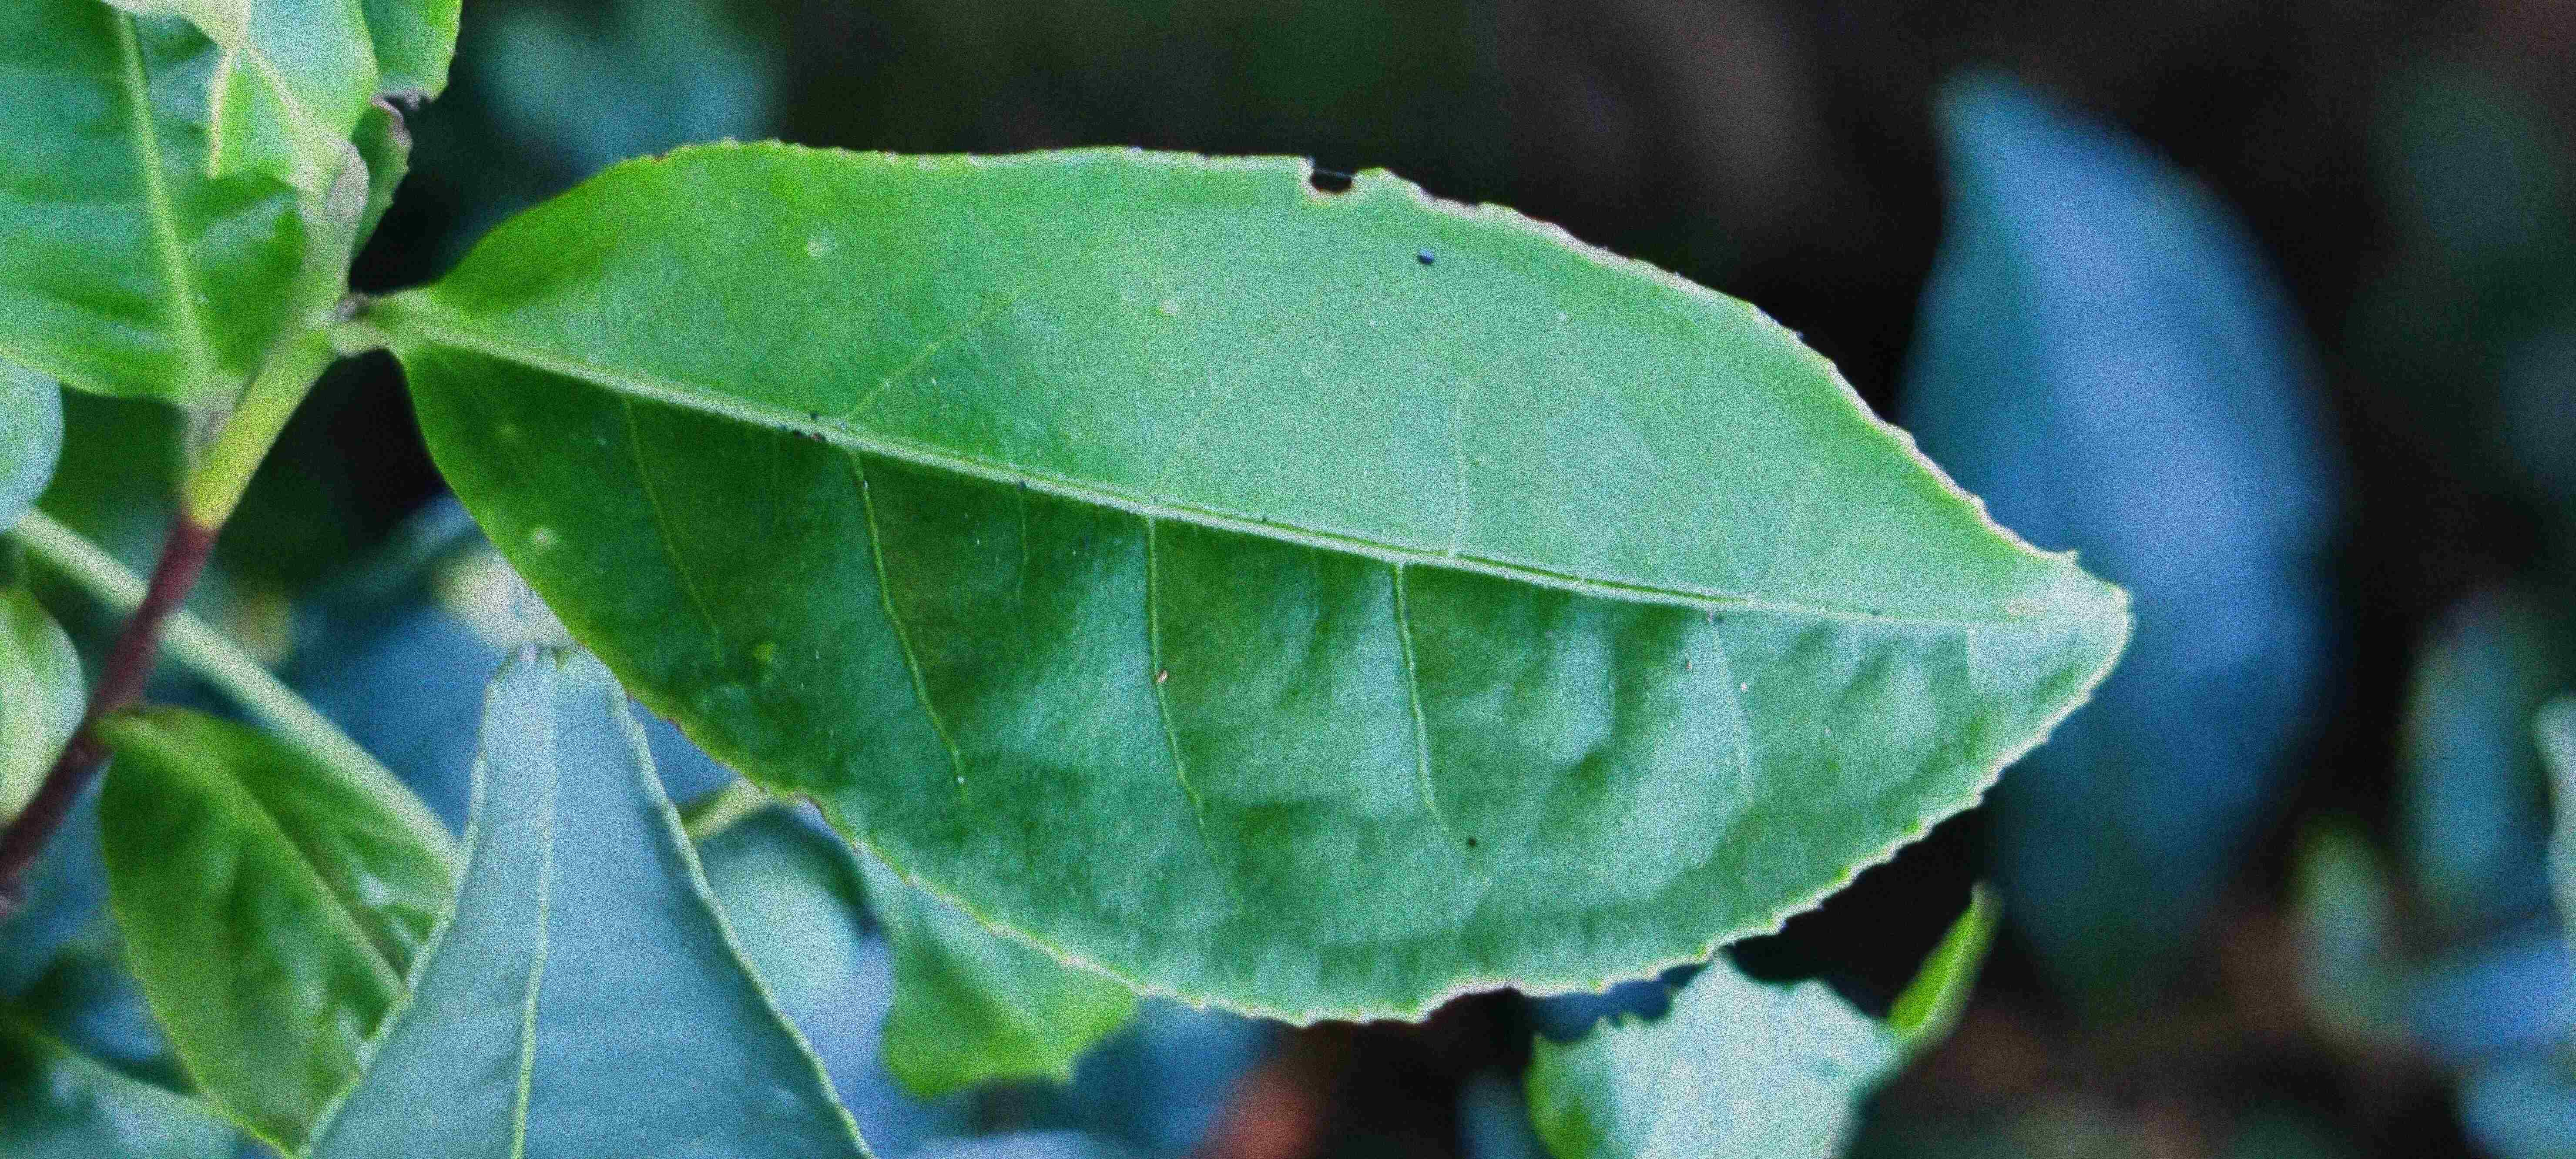chihuo_low: (393, 128, 2136, 1041)
